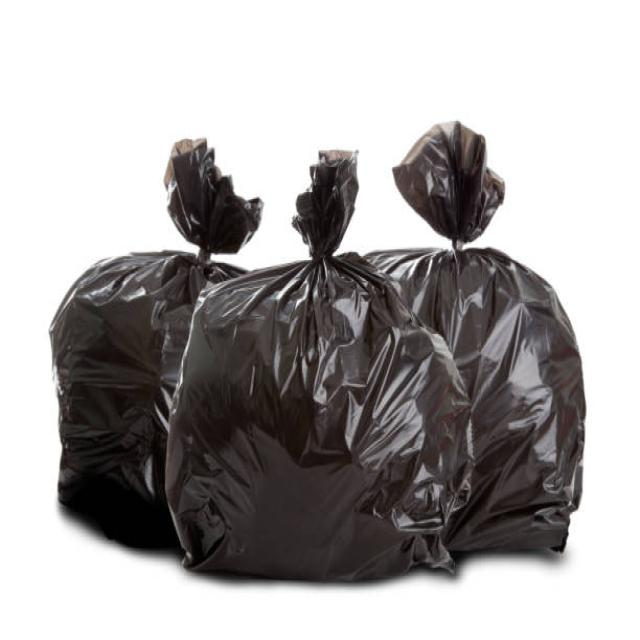trash: (56, 134, 586, 591)
